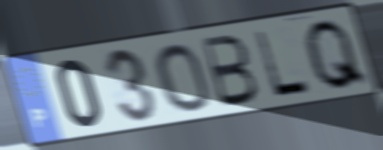0: (54, 57, 104, 130)
3: (102, 45, 158, 125)
B: (199, 33, 261, 110)
L: (252, 27, 315, 99)
O: (152, 41, 213, 114)
Q: (301, 16, 373, 93)
